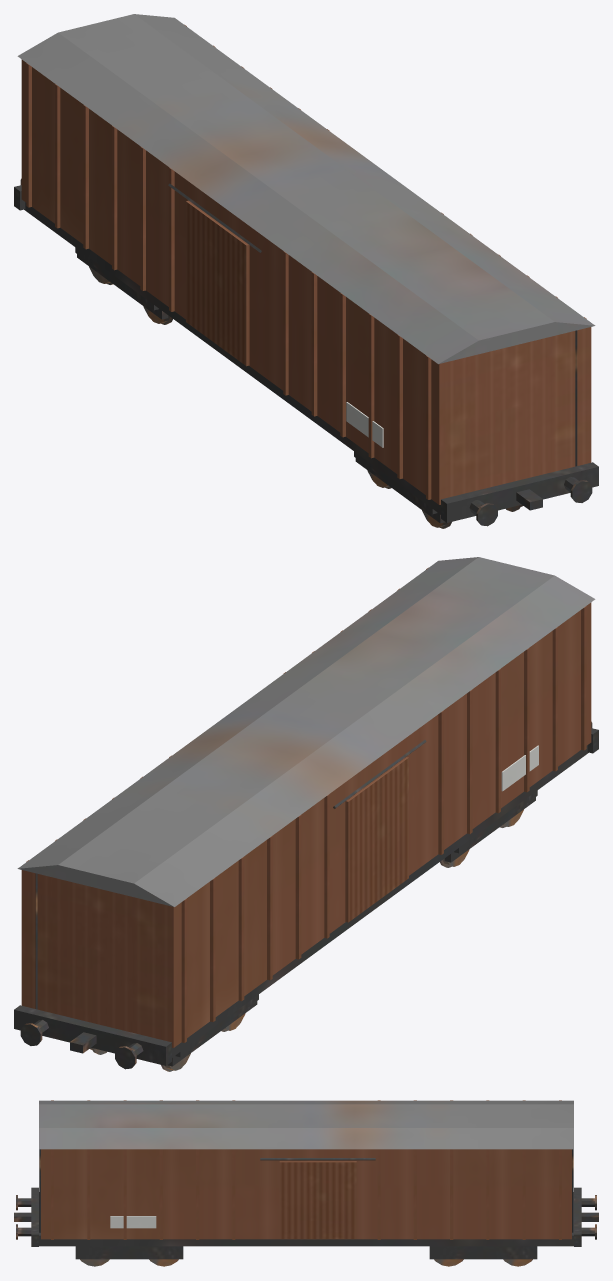
File: goods-wagon.glb
The picture shows the model from 3 angles, top to bottom: view 1: azimuth 30°, elevation 25°; view 2: azimuth 150°, elevation 25°; view 3: azimuth 270°, elevation 25°; orthographic projection. The views are drawn at different scales.
Parts seen in each view (by area): view 1: goods_wagon; view 2: goods_wagon; view 3: goods_wagon.
Boxes of the visible parts, x1,y1,x2,y2 form: goods_wagon: (14, 14, 598, 528); goods_wagon: (14, 557, 598, 1071); goods_wagon: (14, 1100, 598, 1266).
Bounding box in the file's own units: 3.2 × 3.99 × 15.2.
1 material, 1 textured.
